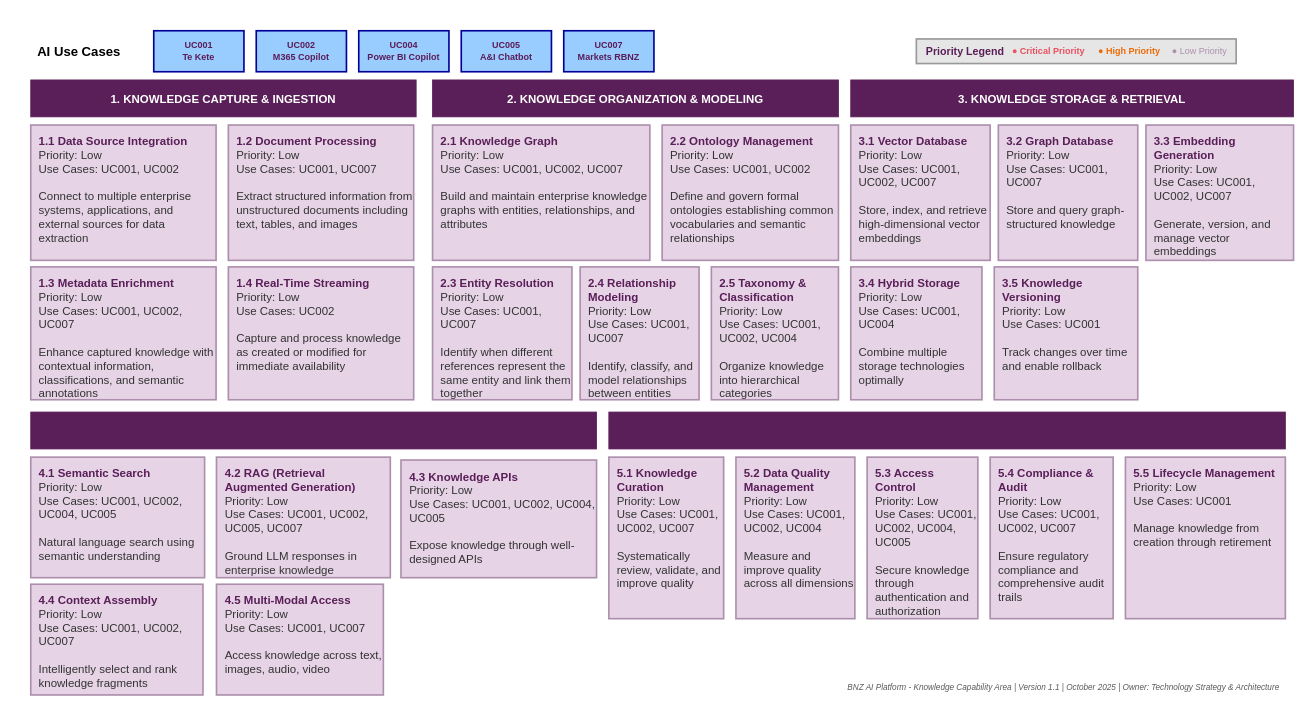
The diagram is 1308 pixels wide and 717 high, and some of its shapes have lost their labels. Each missing label, with the centre of its shape:
4. KNOWLEDGE ACCESS & DELIVERY: (x=313, y=430)
5. KNOWLEDGE GOVERNANCE & QUALITY: (x=946, y=430)
